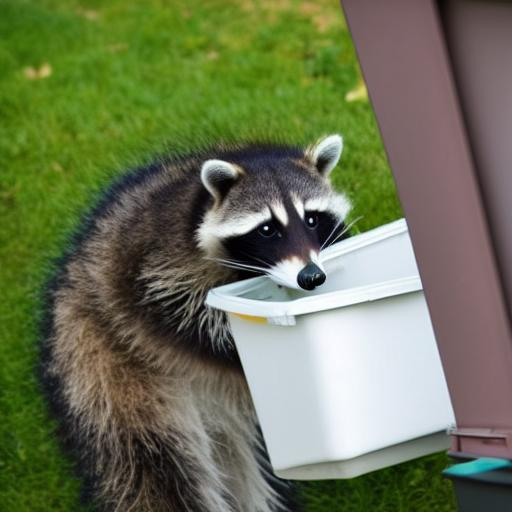raccoon: (33, 125, 365, 512)
